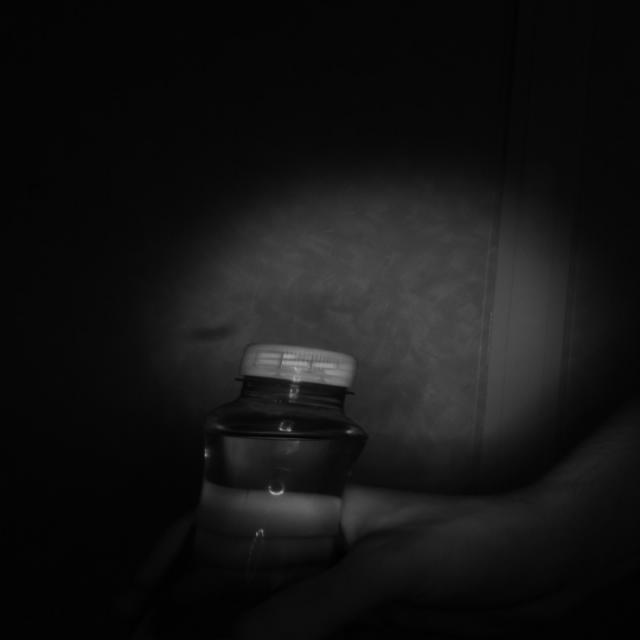Good: (238, 342, 358, 390)
